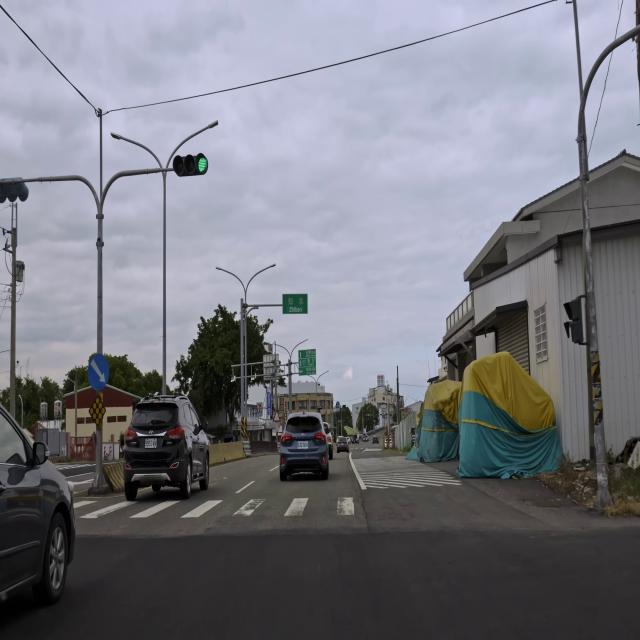green light: (172, 156, 208, 175)
